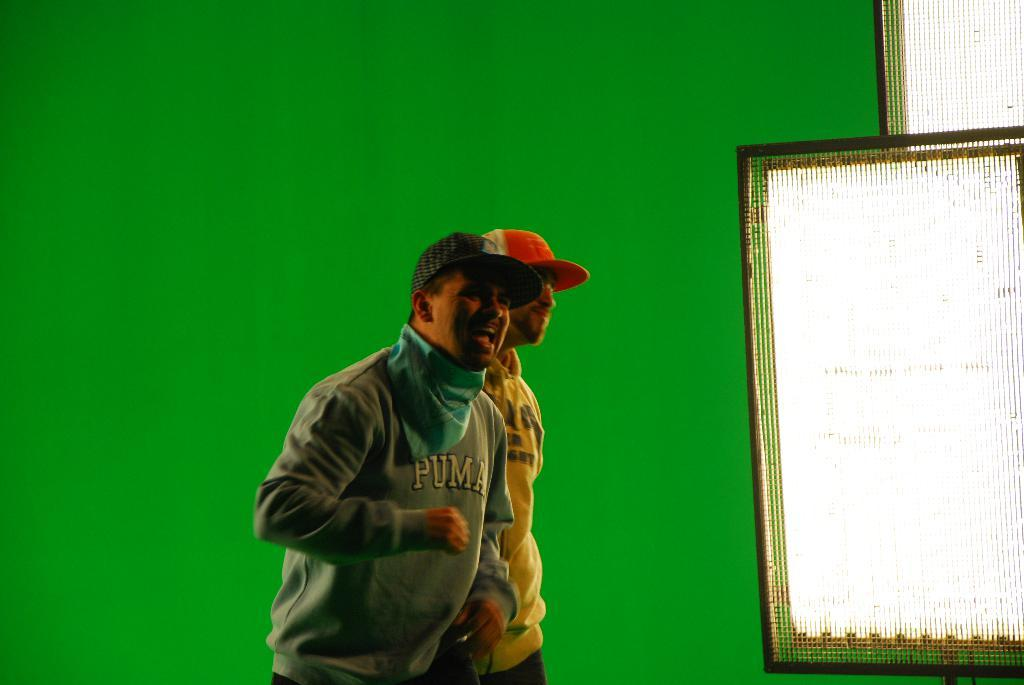Hat: (412, 234, 544, 310), (485, 227, 589, 295)
